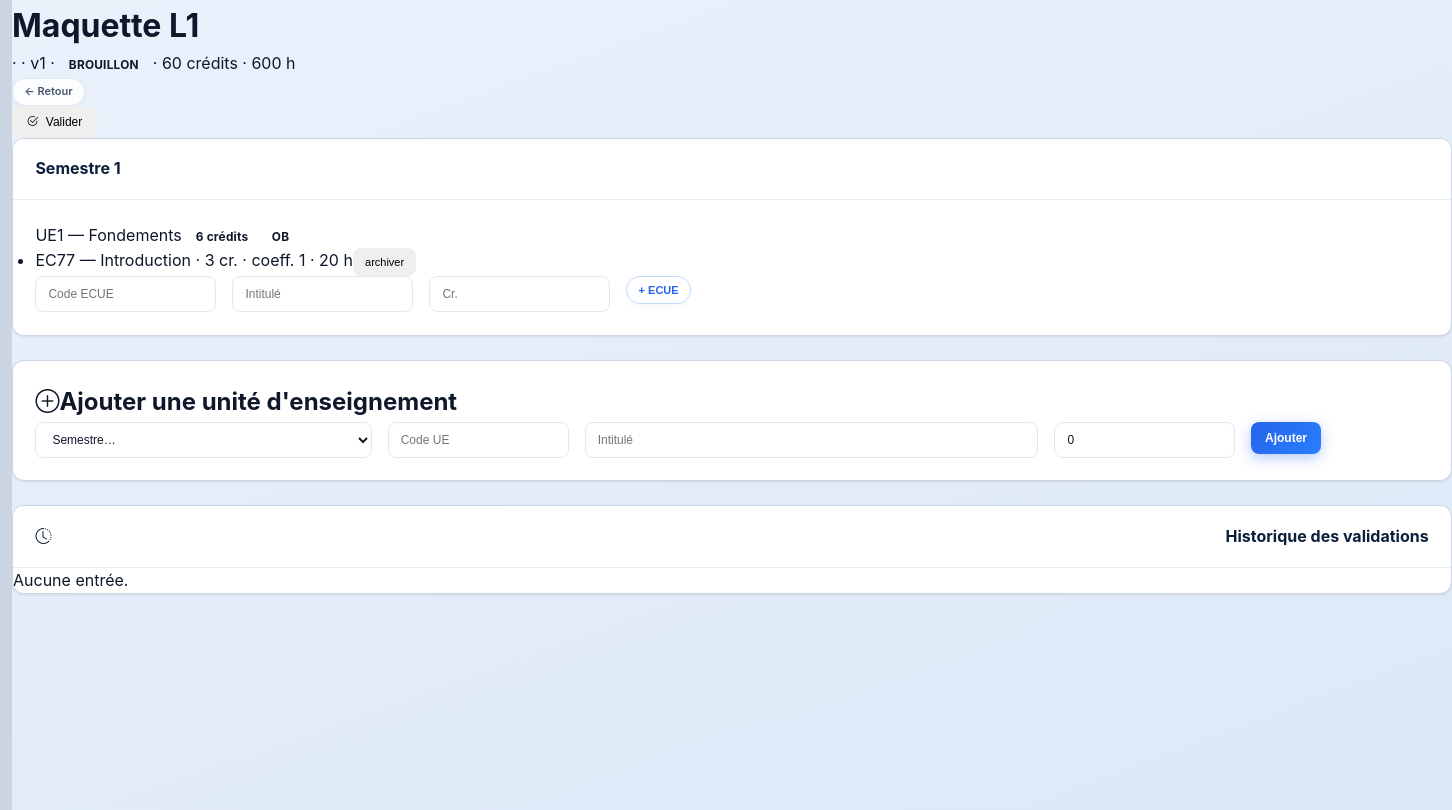
§10.8 LOT 8 — actions Scolarité au clic (écritures API) › MaquetteDetail : archive une ECUE (confirm, DELETE ?mode=archive) et recharge
This screenshot has width=1452, height=810.
Click the button "archiver".
click(385, 262)  # box x1=353 y1=248 x2=416 y2=276
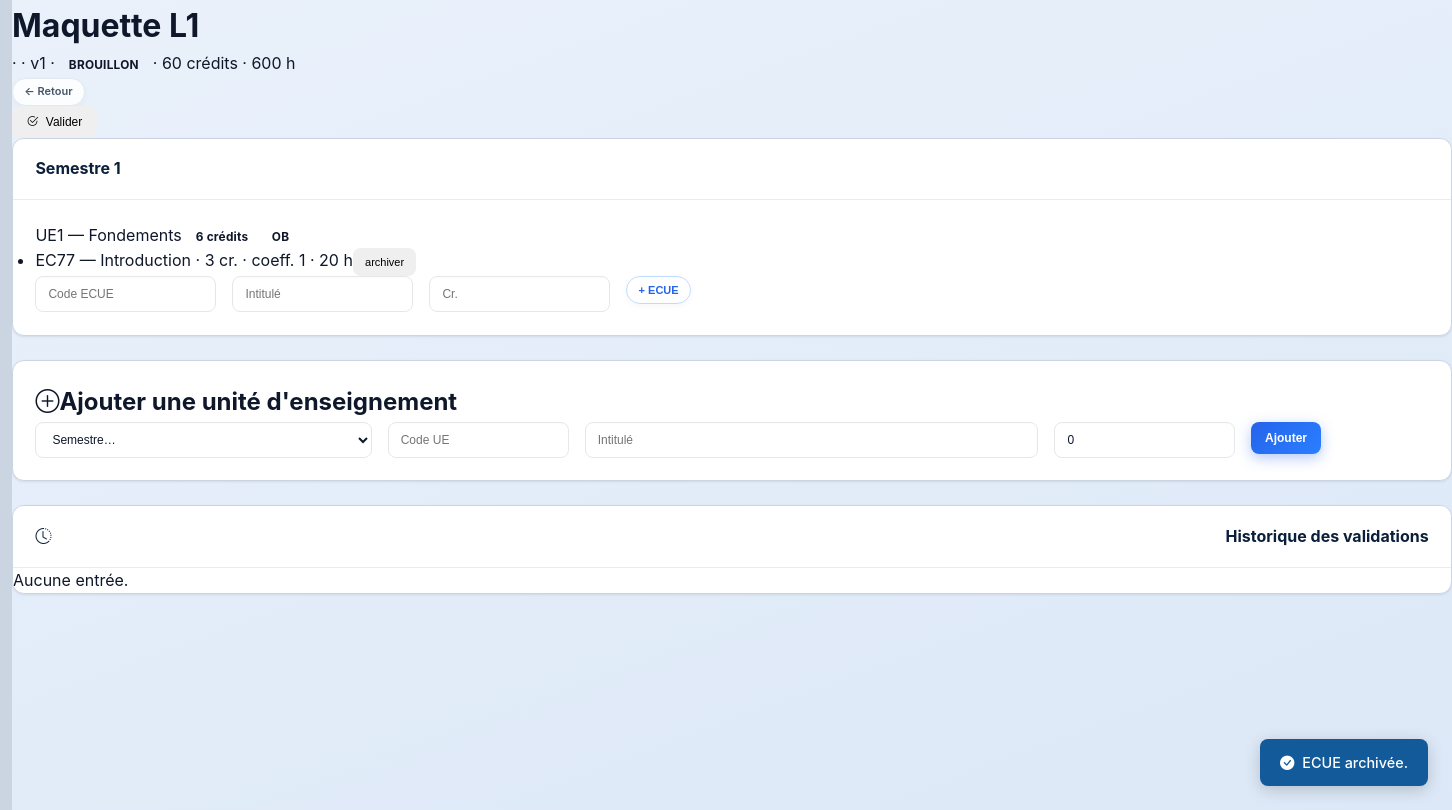
Result: the text "ECUE archivée." is shown at x1=1260 y1=739 x2=1428 y2=786
